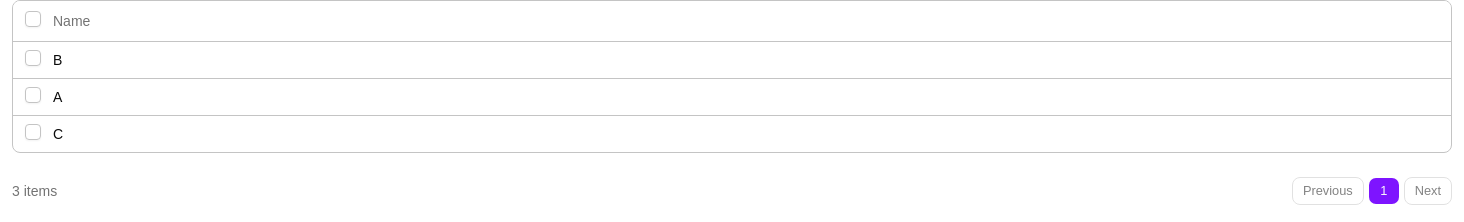
Test case: DataTable selectedCount › counts the selected rows of the page when it is not given
The width and height of the screenshot is (1464, 222).
Click the checkbox named "Select row 1". click: (33, 58)
box: [25, 50, 41, 66]
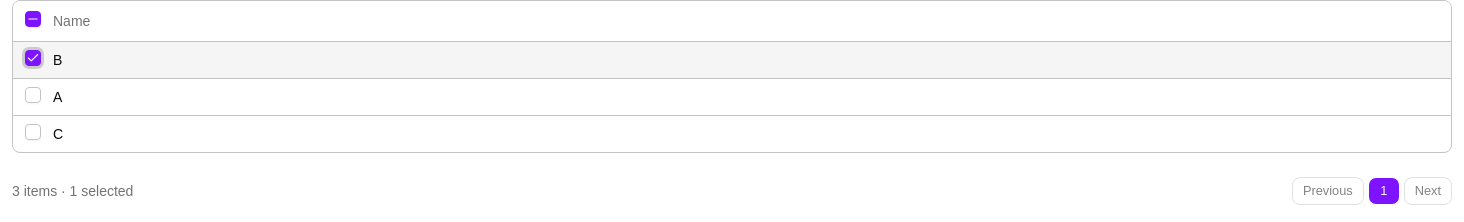
Check: the text "3 items · 1 selected" is shown, box [12, 180, 133, 200]
